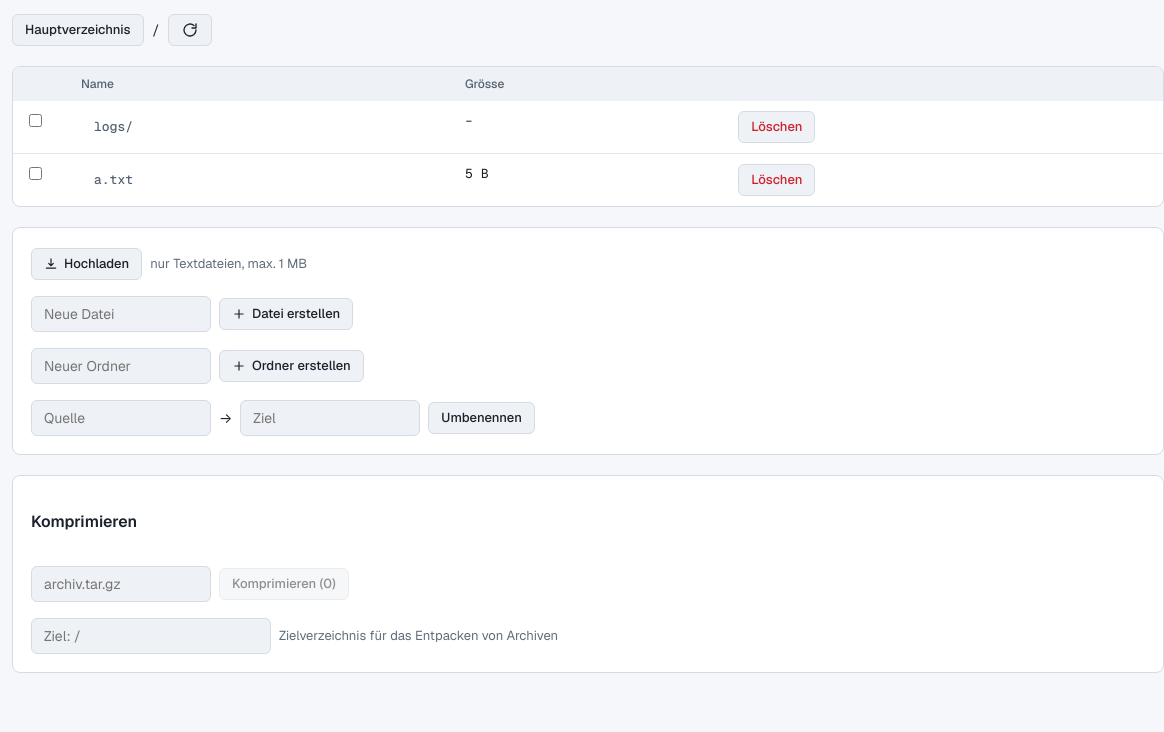
FileBrowser › oeffnet eine Datei und speichert
Click the button with aria-label "Datei a.txt öffnen" at point(114, 180), box [81,164,146,196]
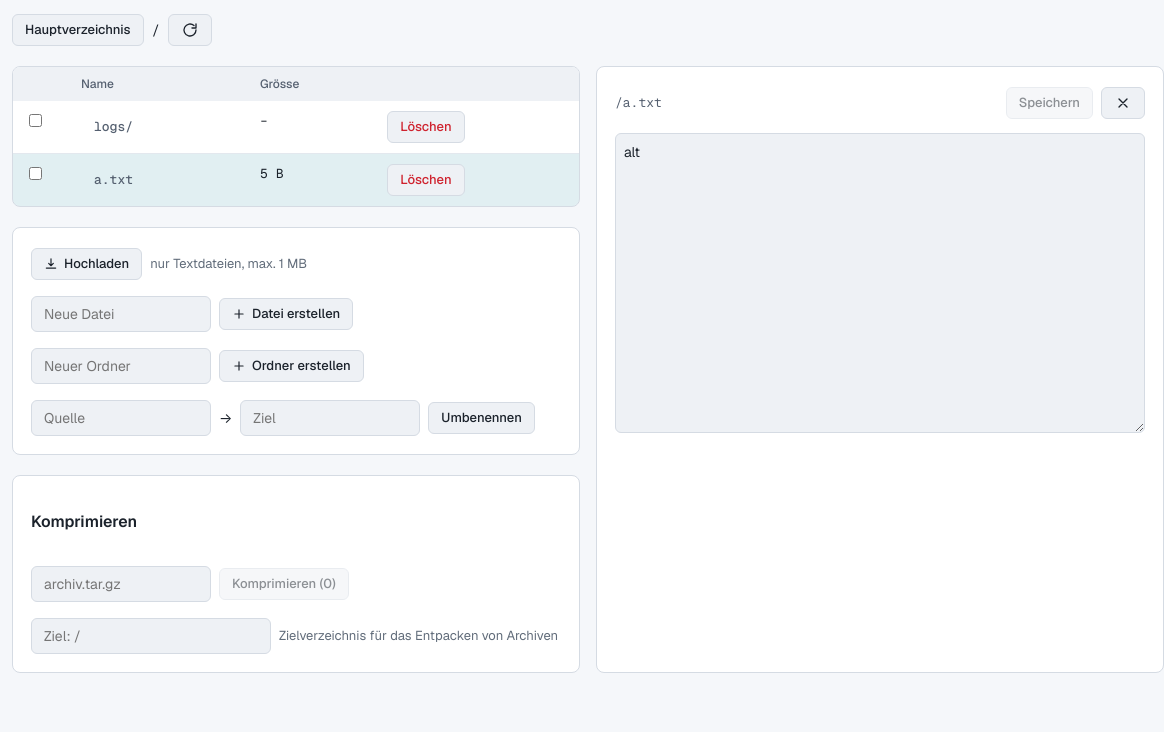
Expected: the button "Speichern" is disabled, [1006,87,1093,119]
Replace the text in the text box named "Inhalt von /a.txt" with "neu" at point(880, 283), box [615,133,1145,433]
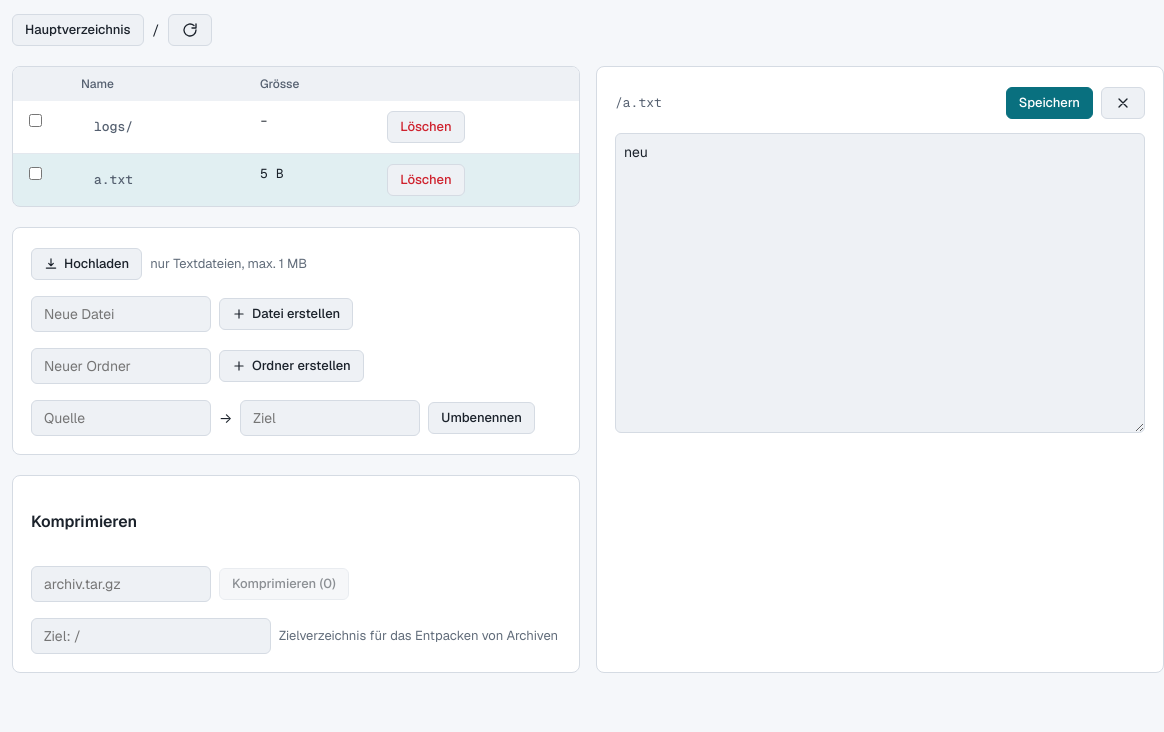
Click the button "Speichern" at point(1049, 103), box [1006,87,1093,119]
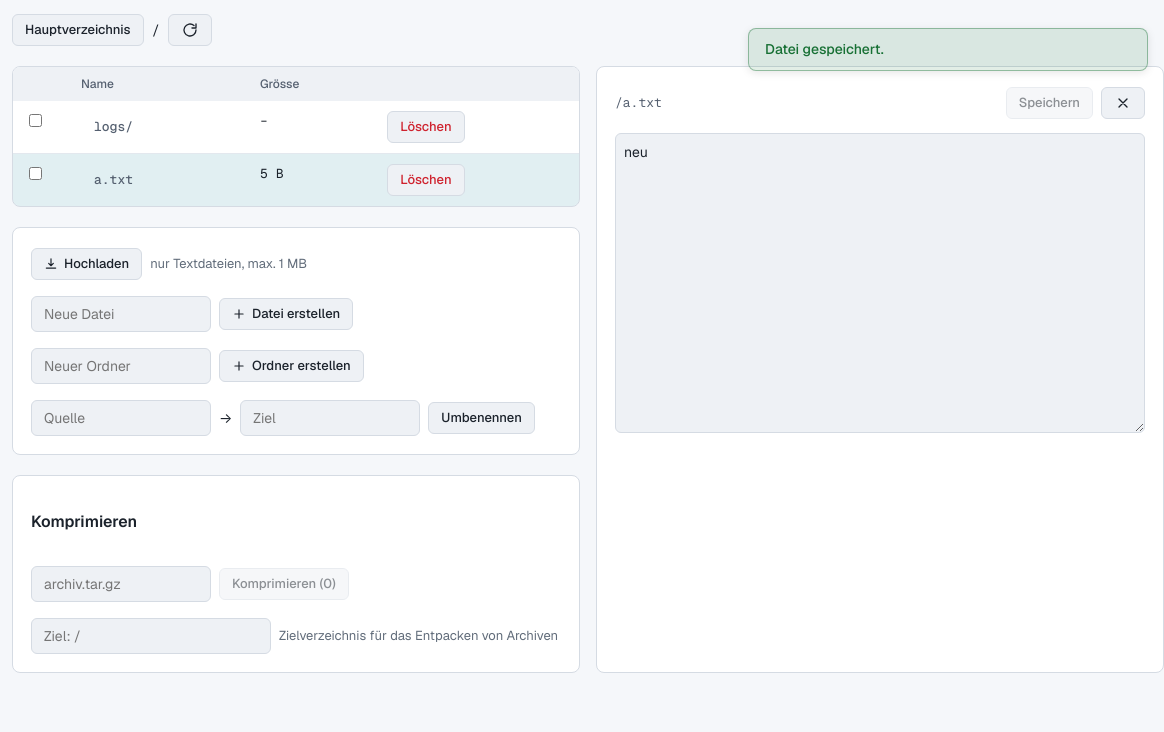
Expected: the text "Datei gespeichert." is shown, [748,28,1148,71]
